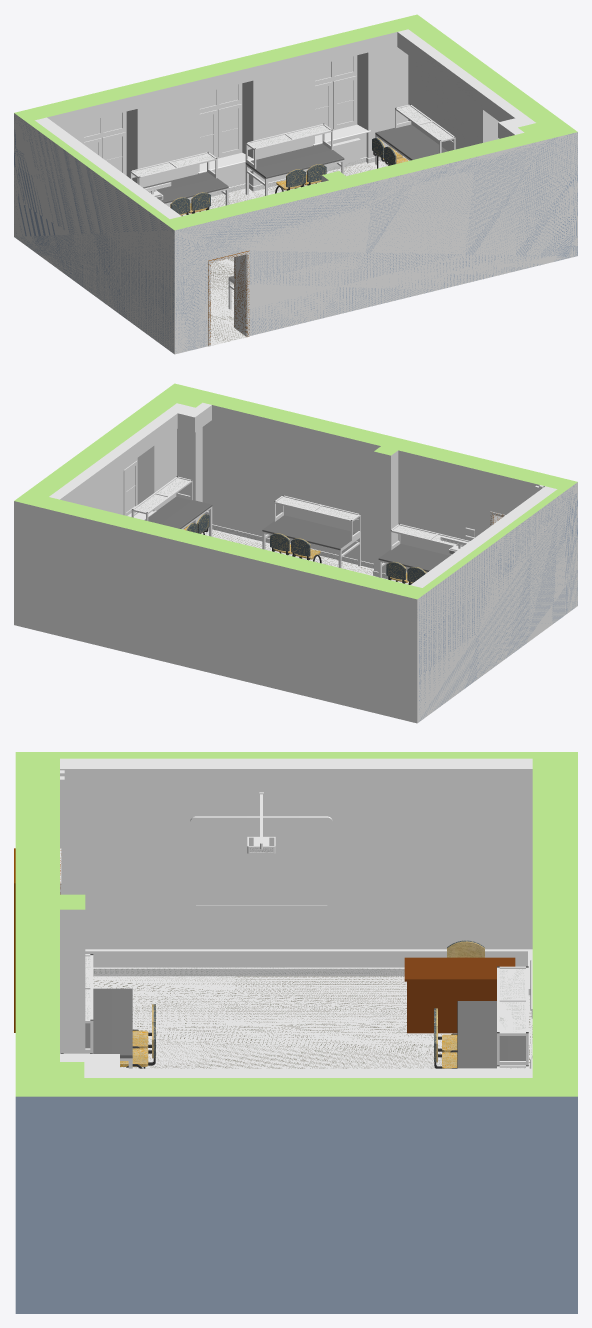
Rendered from Sala_14_WI2_07.dae.
3 views of the same model, one above another, from view 1: azimuth 30°, elevation 25°; view 2: azimuth 150°, elevation 25°; view 3: azimuth 270°, elevation 25° (orthographic). The views are drawn at different scales.
Visible parts, largest first — view 1: SketchUp (×14), Component_8 (×3), Component_3 (×5), Component_6 (×3), Component_7; view 2: SketchUp (×11), Component_8 (×3), Component_6 (×3), Component_7; view 3: SketchUp (×11), Component_8 (×2), Component_2 (×2), Component_6 (×3).
Part boxes in pixels (box(x1,y1,x2,y2)): SketchUp (×14): box(14, 14, 577, 354); Component_8 (×3): box(143, 124, 447, 203); Component_3 (×5): box(106, 76, 356, 172); Component_6 (×3): box(130, 104, 455, 185); Component_7: box(245, 160, 344, 195); SketchUp (×11): box(14, 383, 577, 723); Component_8 (×3): box(145, 496, 449, 571); Component_6 (×3): box(131, 476, 469, 550); Component_7: box(262, 531, 360, 568); SketchUp (×11): box(15, 752, 577, 1313); Component_8 (×2): box(85, 988, 525, 1067); Component_2 (×2): box(404, 957, 515, 1033); Component_6 (×3): box(497, 966, 528, 1065).
Size of the model in its own units: 406 by 281 by 119.
Materials: 19 (5 with a texture image).
